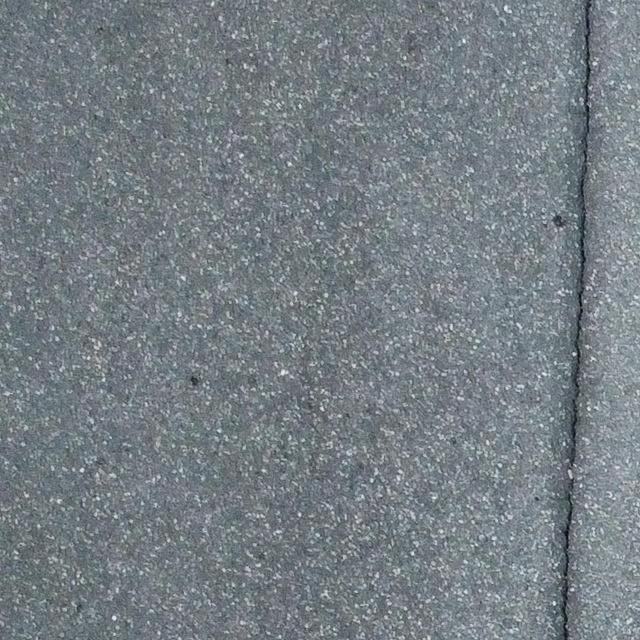LongitudinalCrack: (560, 1, 595, 640)
